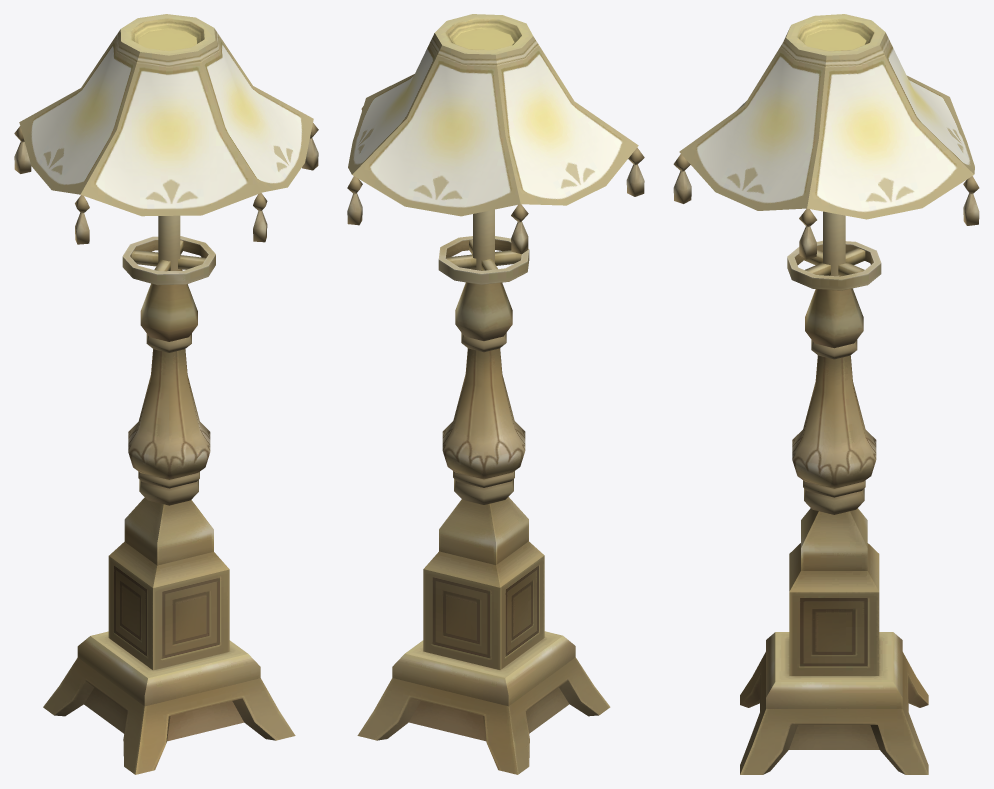
The model's file is my_teaparty_01_lightingstand_01.glb.
The picture shows the model from 3 angles, left to right: view 1: azimuth 30°, elevation 25°; view 2: azimuth 150°, elevation 25°; view 3: azimuth 270°, elevation 25°; orthographic projection.
Visible parts, largest first — view 1: my_teaparty_01_lightingstand_01; view 2: my_teaparty_01_lightingstand_01; view 3: my_teaparty_01_lightingstand_01.
Boxes of the visible parts, x1=… form: my_teaparty_01_lightingstand_01: x1=14, y1=14, x2=318, y2=774; my_teaparty_01_lightingstand_01: x1=347, y1=14, x2=644, y2=774; my_teaparty_01_lightingstand_01: x1=673, y1=14, x2=979, y2=774.
Size of the model in its own units: 0.0046 by 0.0115 by 0.00457.
Materials: 1 (1 with a texture image).
